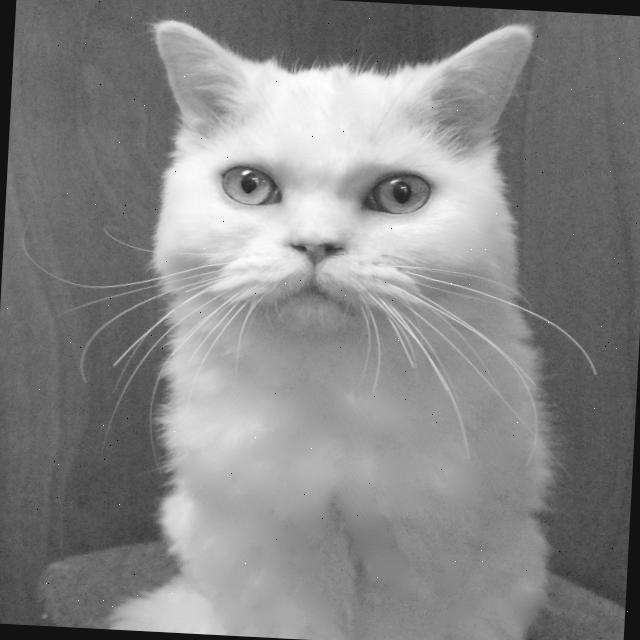persian_cat: (108, 0, 588, 401)
